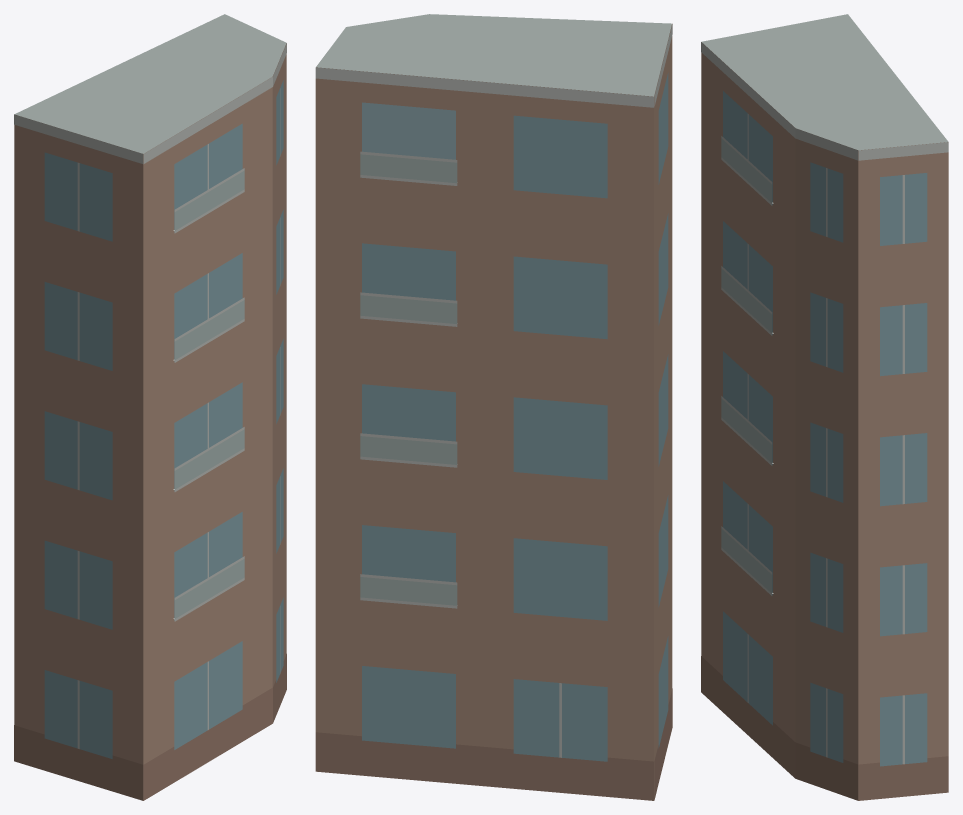
File: survey-upis-32966084.glb
3 renders of one model, left to right at view 1: azimuth 30°, elevation 25°; view 2: azimuth 150°, elevation 25°; view 3: azimuth 270°, elevation 25°, orthographic. The views are drawn at different scales.
Visible parts, largest first — view 1: survey-upis-32966084.tmp; view 2: survey-upis-32966084.tmp; view 3: survey-upis-32966084.tmp.
Part boxes in pixels (box(x1,y1,x2,y2)): survey-upis-32966084.tmp: box(14, 14, 286, 800); survey-upis-32966084.tmp: box(315, 14, 672, 800); survey-upis-32966084.tmp: box(701, 14, 948, 800).
Size of the model in its own units: 6.86 by 15.25 by 5.27.
